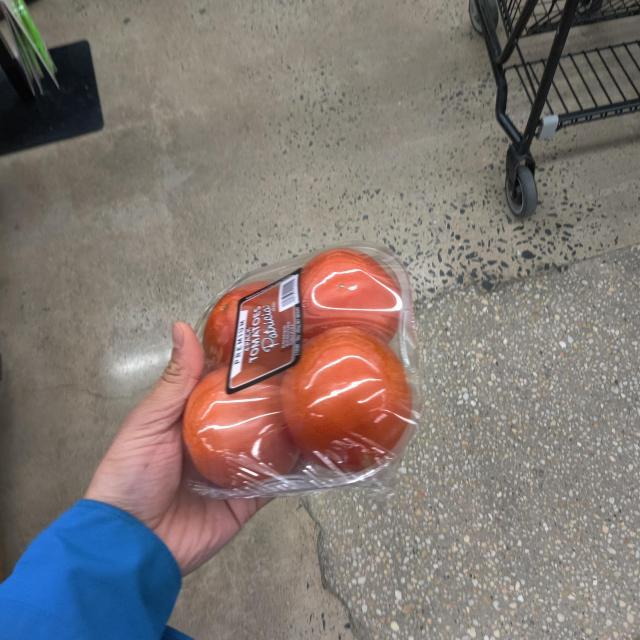Tomatoes: (176, 245, 412, 489)
